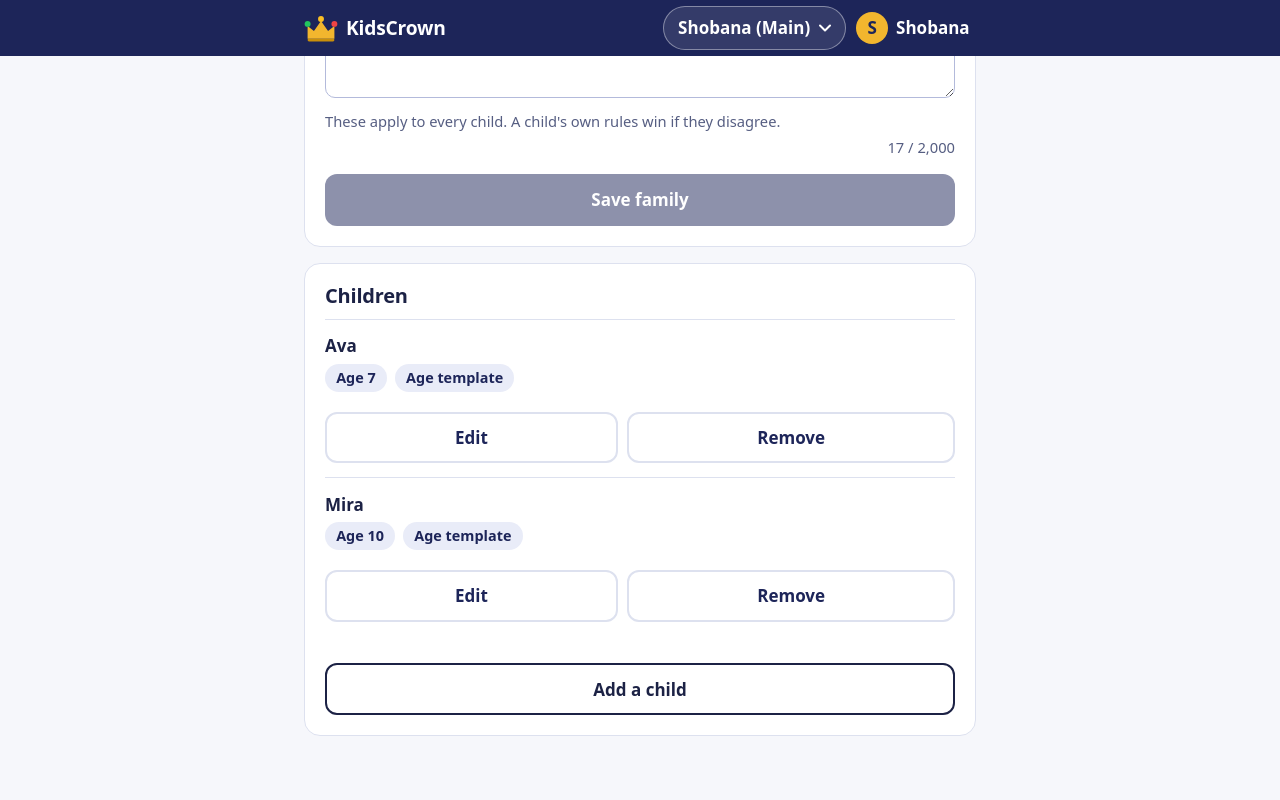
the profile page › asks before removing a child, and only removes on confirmation
(page scrolled)
Step 1. Click the 1st button "Remove" → (791, 437), box [627, 412, 955, 463]
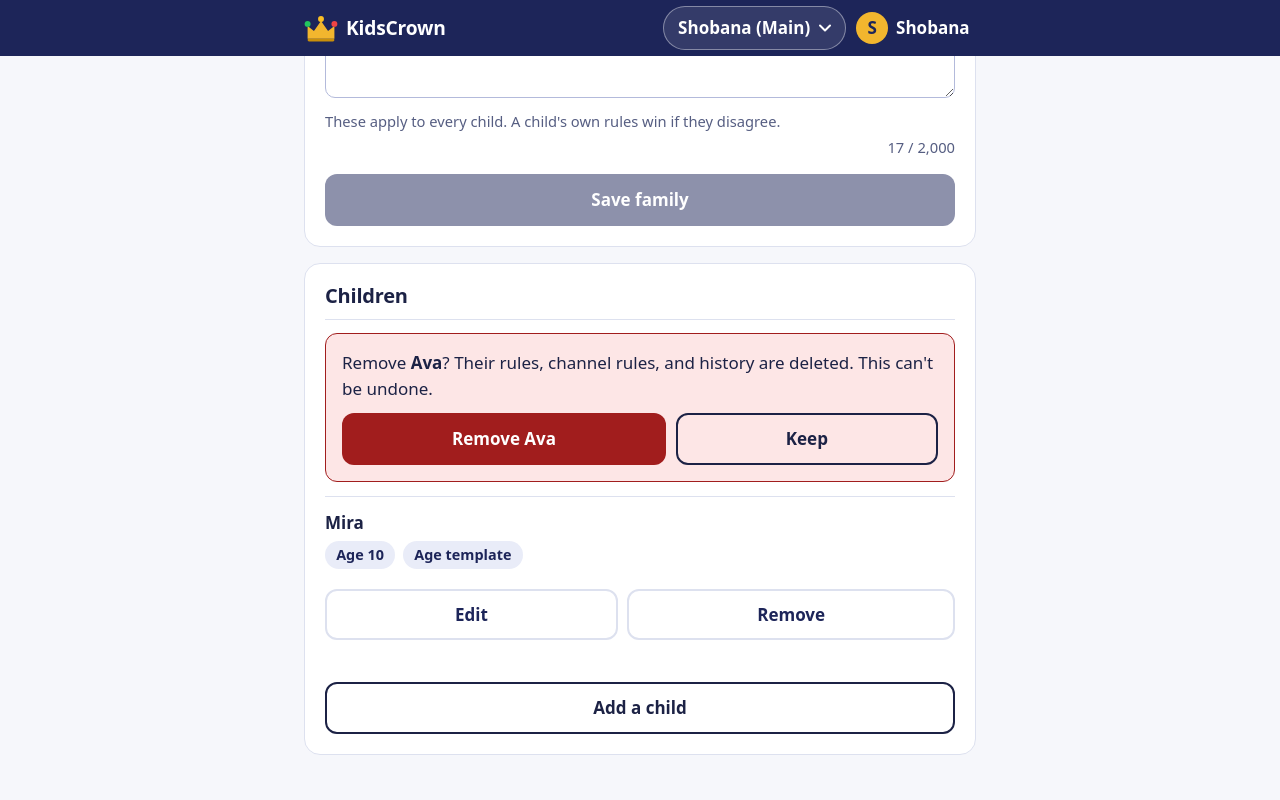
Check: the text "can't be undone" is shown, box [342, 351, 933, 400]
Step 2. Click the button "Keep" → (807, 439), box [676, 413, 938, 465]
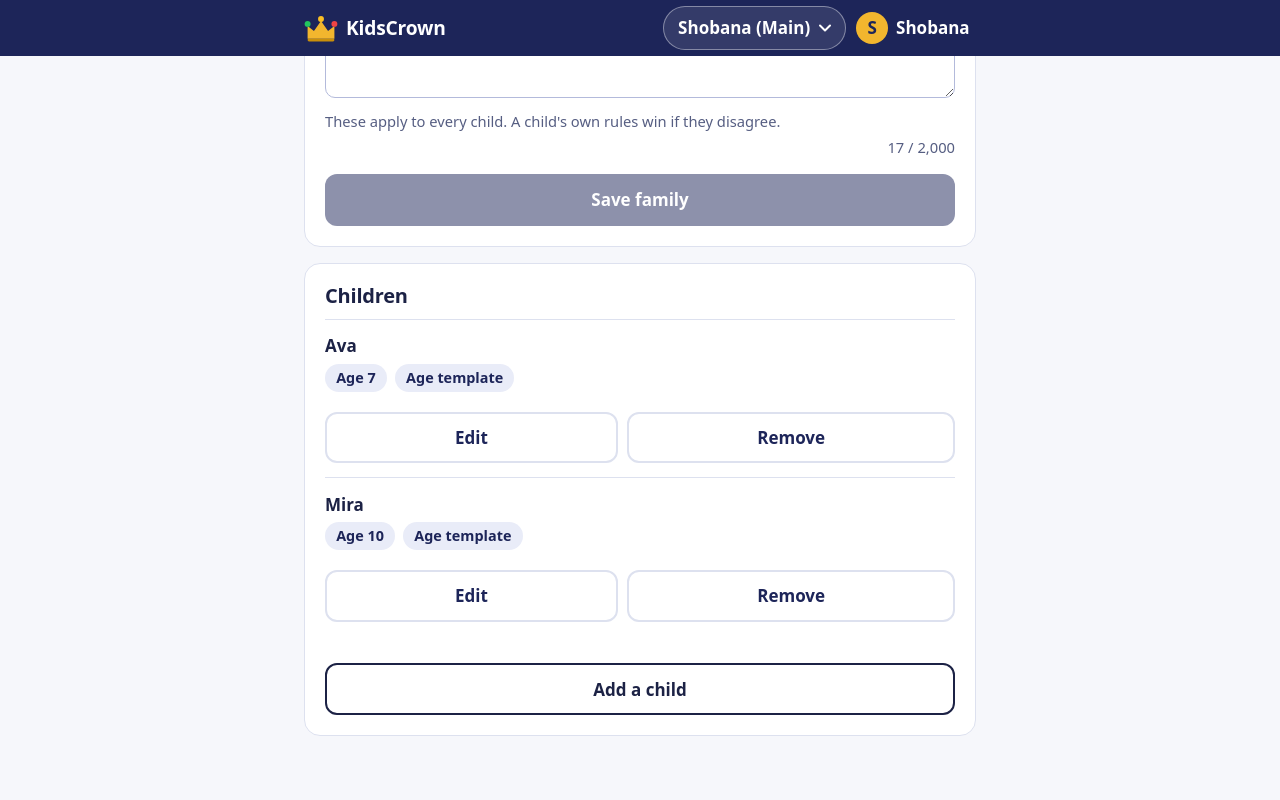
Check: the text "Ava" is shown, box [325, 334, 357, 357]
Step 3. Click the 1st button "Remove" → (791, 437), box [627, 412, 955, 463]
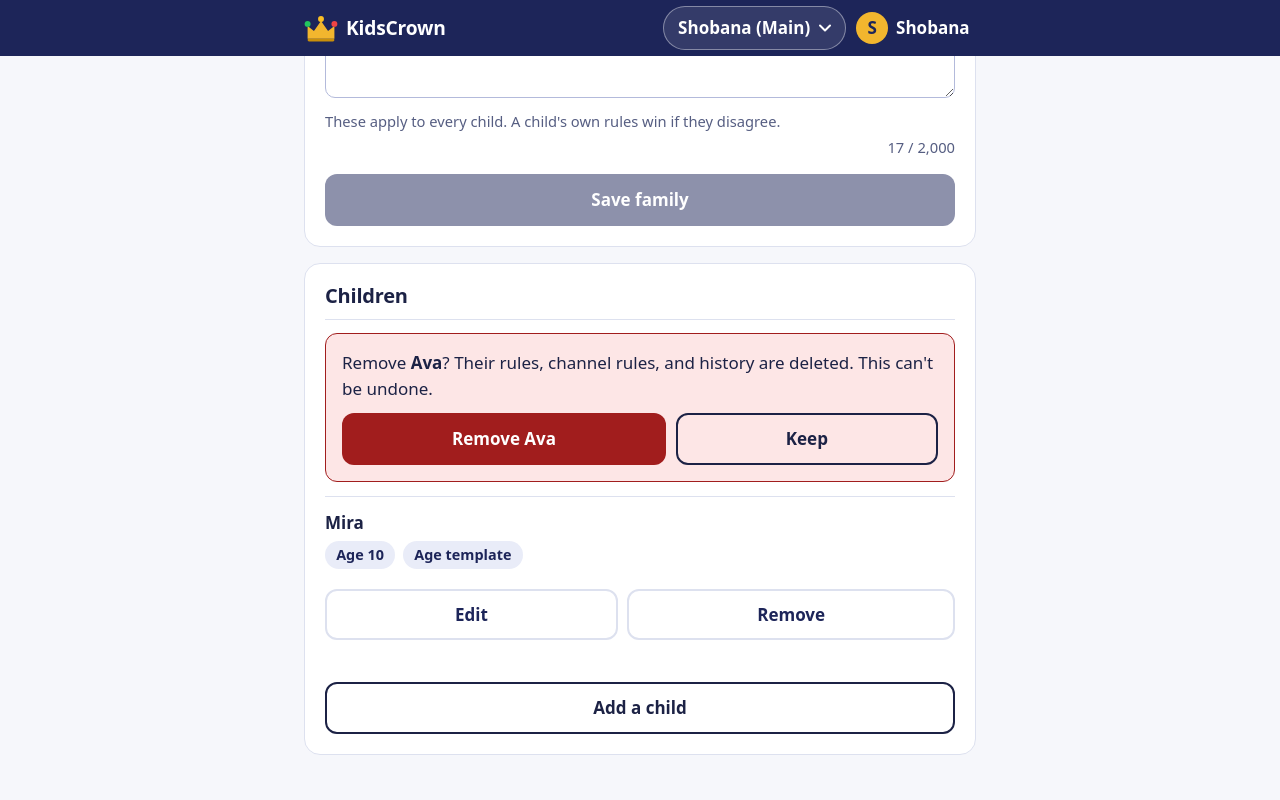
Step 4. Click the button "Remove Ava" → (504, 439), box [342, 413, 666, 465]
(page scrolled)
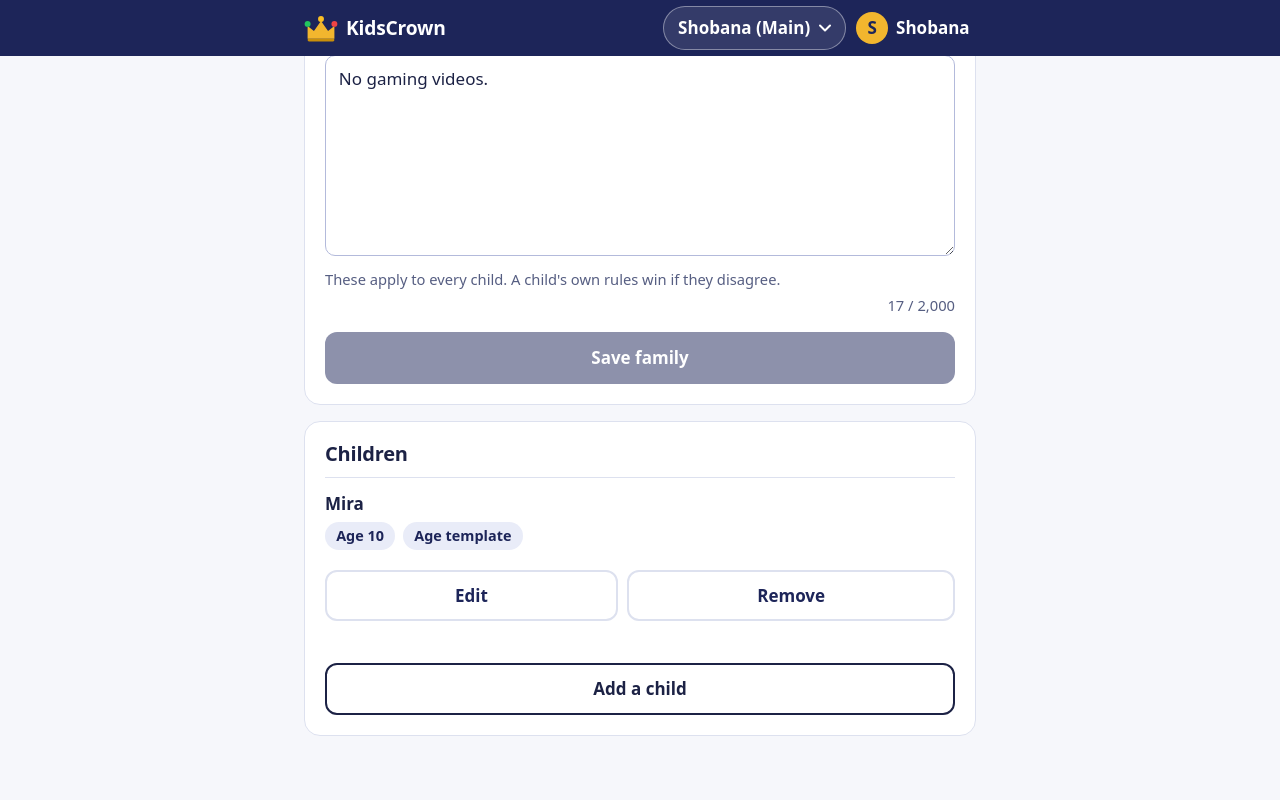
Check: the text "Mira" is shown, box [325, 492, 364, 515]
Check: the text "Ava" is gone
